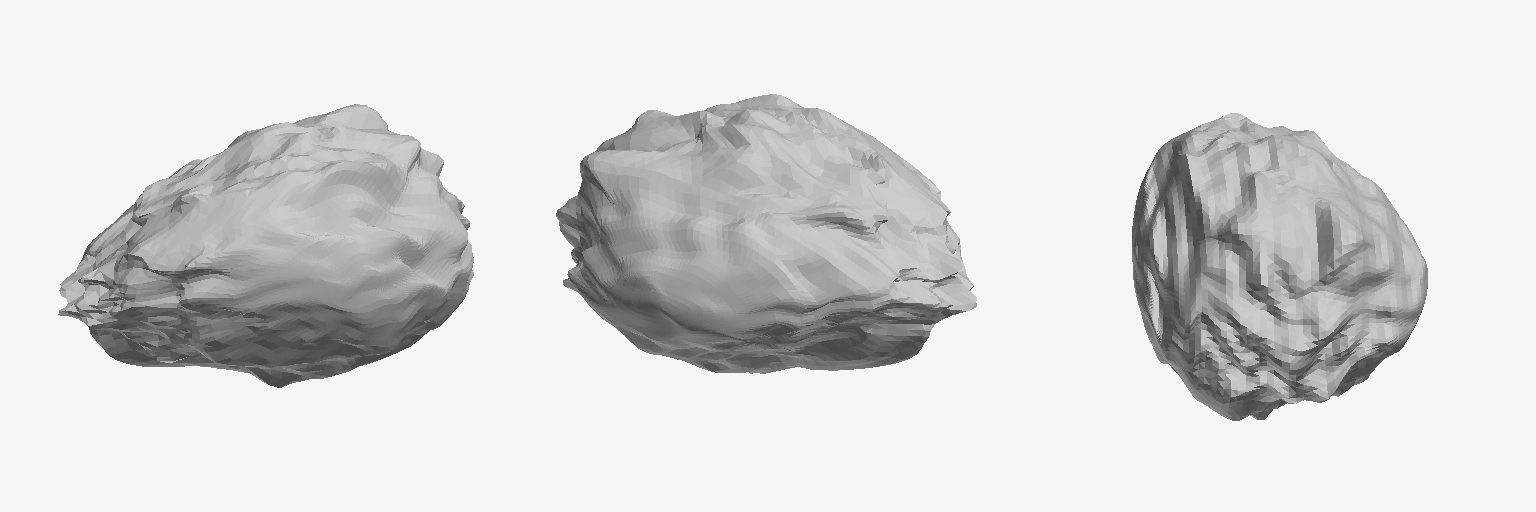
Rendered from asteroid2.obj.
3 views of the same model, side by side, from view 1: azimuth 30°, elevation 25°; view 2: azimuth 150°, elevation 25°; view 3: azimuth 270°, elevation 25° (orthographic).
Bounding box in the file's own units: 11.26 × 6.68 × 7.12.